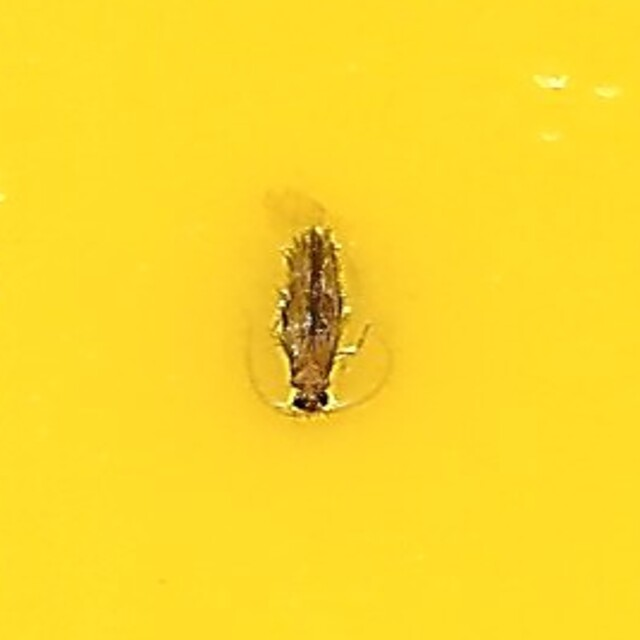Trichoptera: (239, 208, 401, 432)
